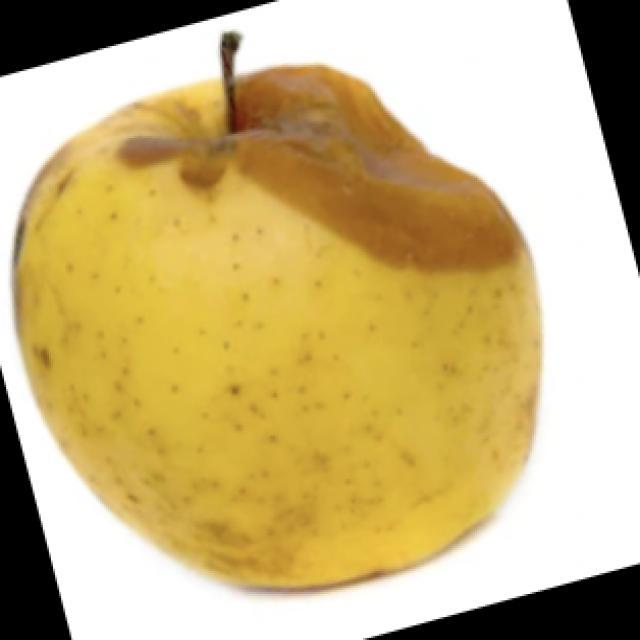Rotten: (28, 67, 530, 580)
